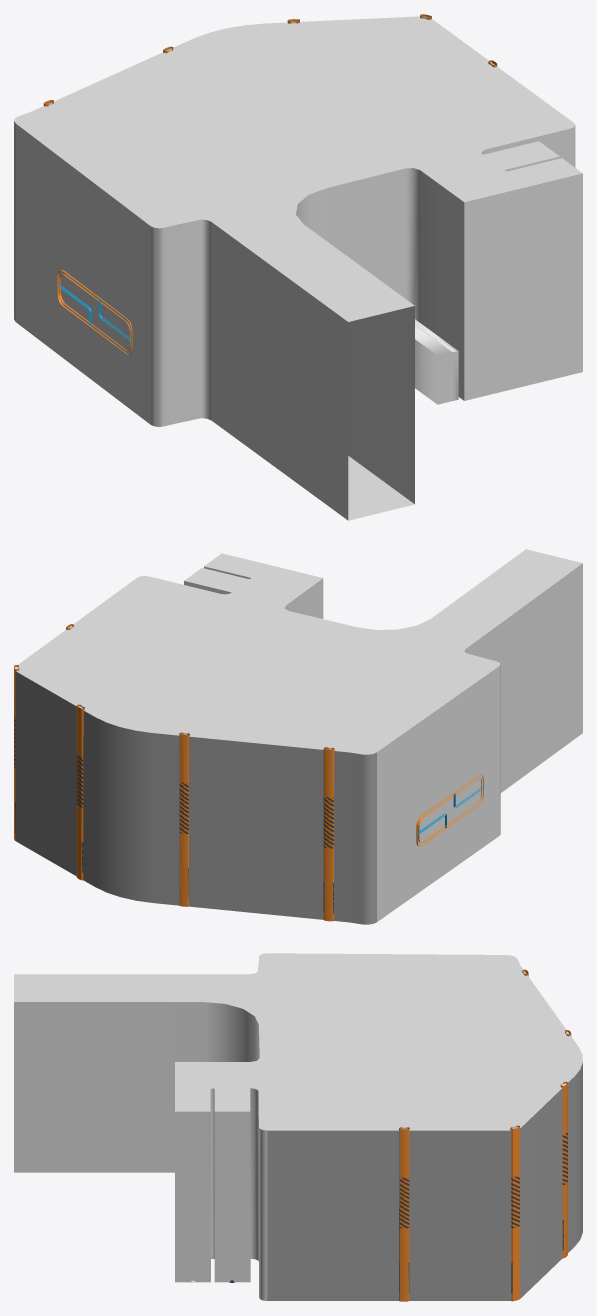
File: test restaurant.fbx
3 views of the same model, one above another, from view 1: azimuth 30°, elevation 25°; view 2: azimuth 150°, elevation 25°; view 3: azimuth 270°, elevation 25° (orthographic). The views are drawn at different scales.
Parts seen in each view (by area): view 1: salle1, Etagere_Murale1; view 2: salle1, SM_pilier11, SM_pilier13, SM_pilier14, Etagere_Murale1; view 3: salle1, SM_pilier12, SM_pilier10, SM_pilier14.
Part boxes in pixels (left/top/right/bottom): salle1: left=14, top=16, right=582, bottom=520; Etagere_Murale1: left=57, top=269, right=132, bottom=354; salle1: left=14, top=549, right=582, bottom=924; SM_pilier11: left=323, top=747, right=334, bottom=921; SM_pilier13: left=179, top=732, right=189, bottom=906; SM_pilier14: left=76, top=704, right=84, bottom=880; Etagere_Murale1: left=416, top=774, right=483, bottom=846; salle1: left=14, top=953, right=582, bottom=1300; SM_pilier12: left=399, top=1127, right=409, bottom=1301; SM_pilier10: left=510, top=1125, right=519, bottom=1301; SM_pilier14: left=560, top=1081, right=567, bottom=1258.
Size of the model in its own units: 1949 by 881 by 2633.
